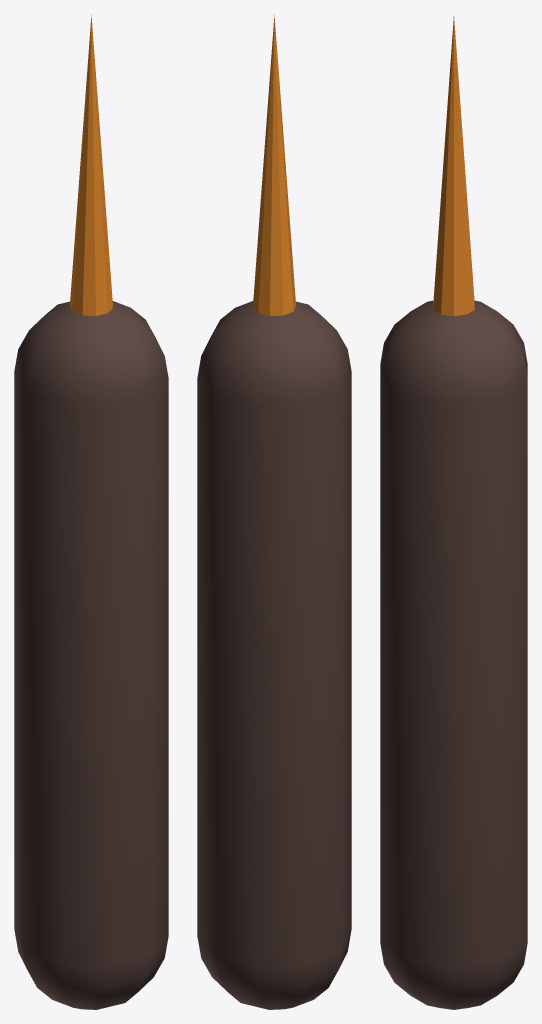
Rendered from Estoc.fbx.
3 views of the same model, side by side, from view 1: azimuth 30°, elevation 25°; view 2: azimuth 150°, elevation 25°; view 3: azimuth 270°, elevation 25° (orthographic).
Parts seen in each view (by area): view 1: Capsule_2, Cône; view 2: Capsule_2, Cône; view 3: Capsule_2, Cône.
Boxes of the visible parts, x1,y1,x2,y2 form: Capsule_2: [14, 301, 168, 1009]; Cône: [70, 14, 113, 315]; Capsule_2: [197, 301, 351, 1009]; Cône: [252, 14, 295, 315]; Capsule_2: [380, 300, 527, 1009]; Cône: [433, 16, 474, 316].
Size of the model in its own units: 3.83 by 26.99 by 3.64.
